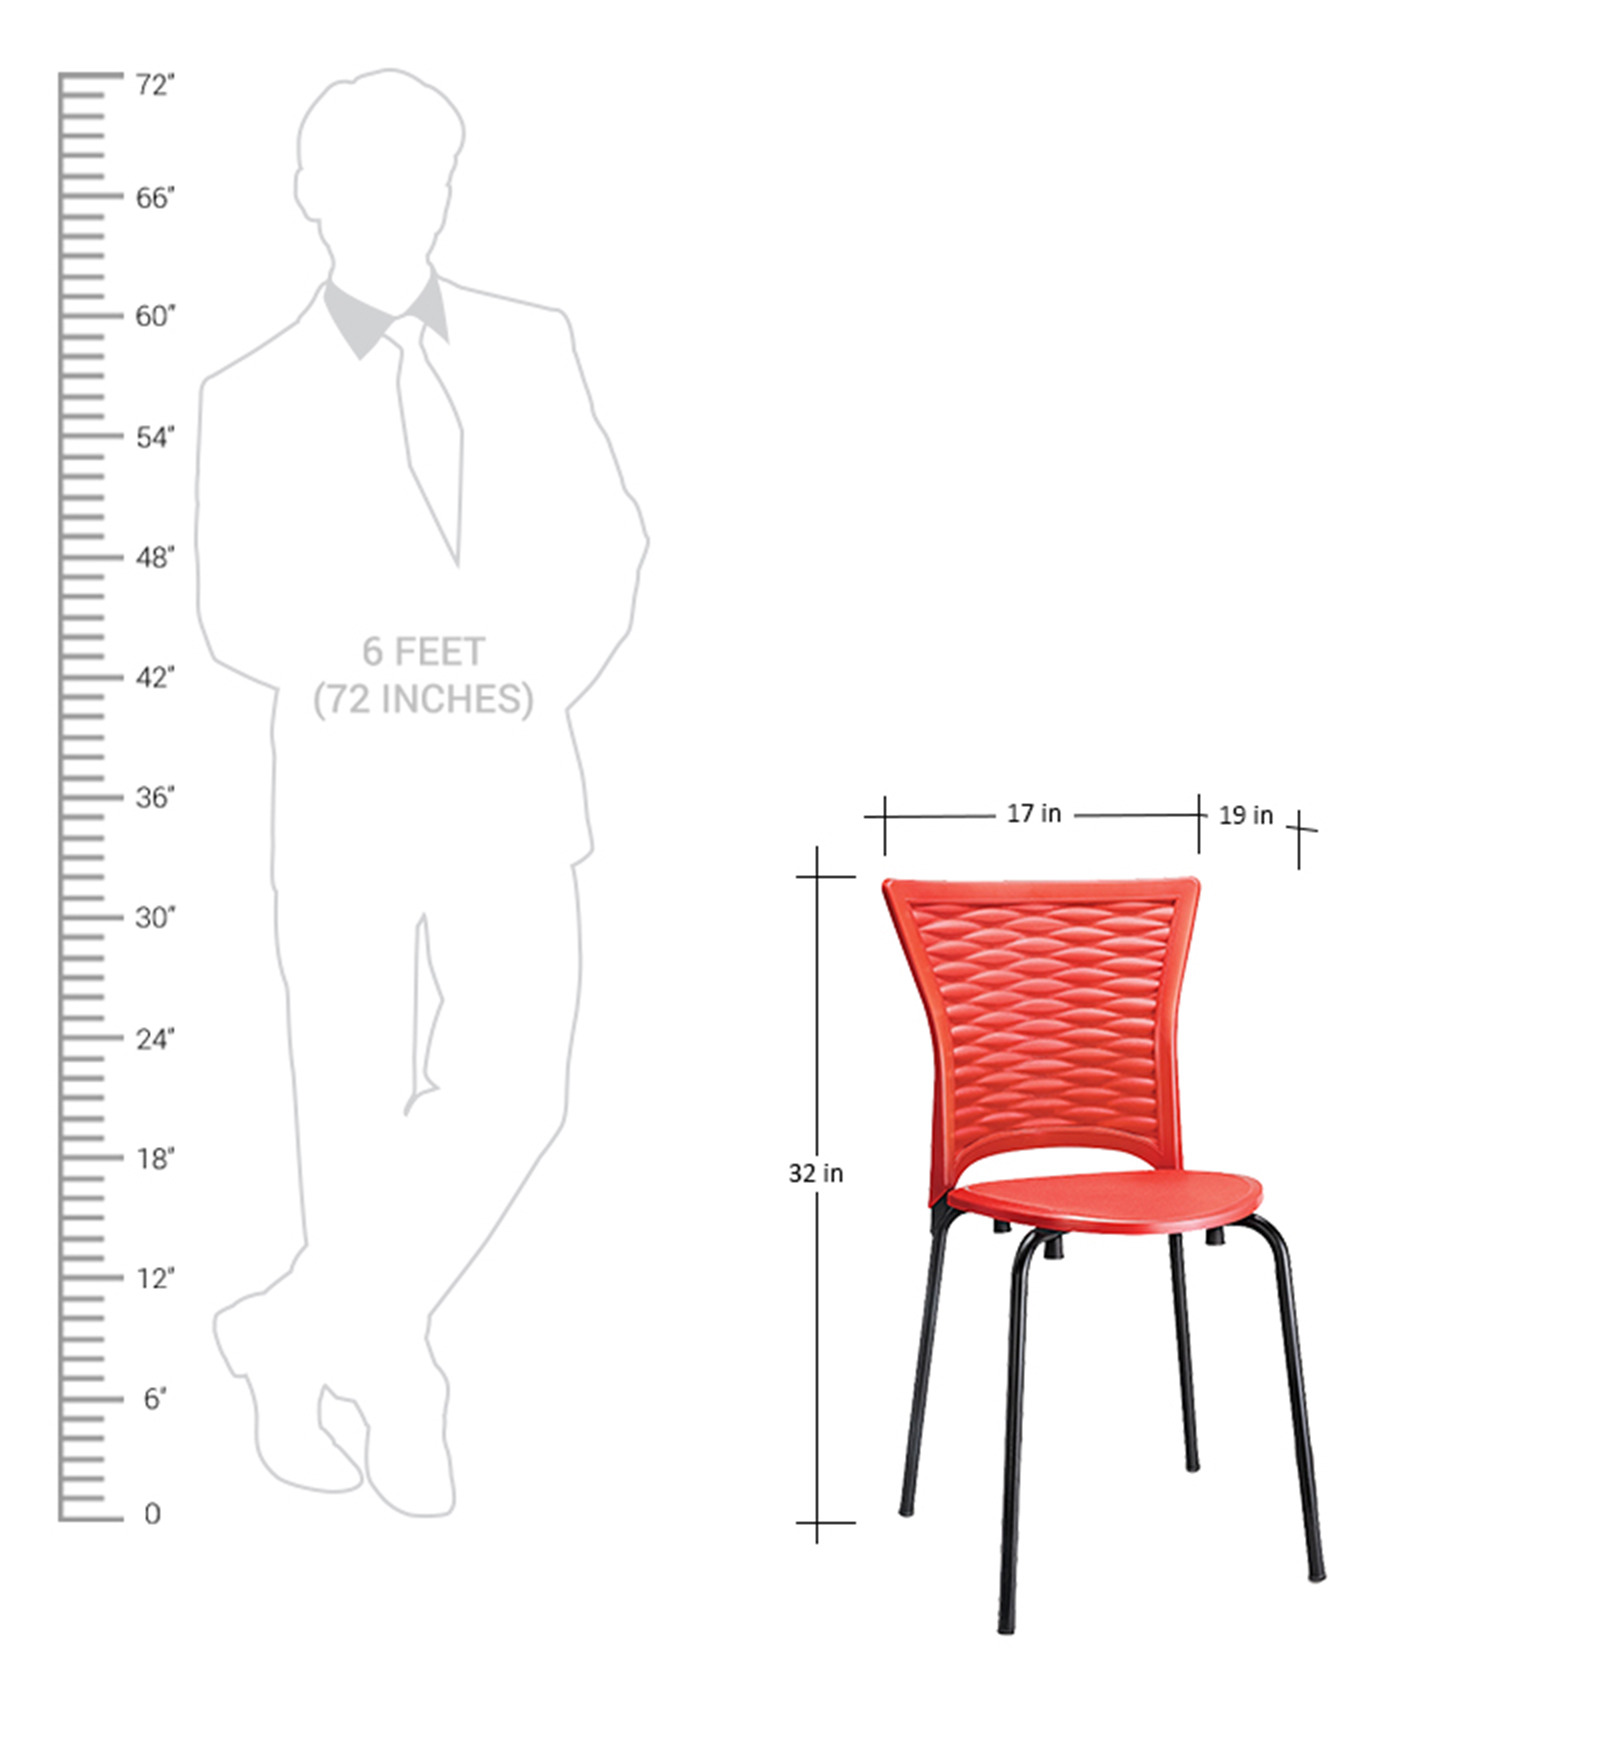Novella Chair in Red Colour by Nilkamal: (875, 871, 1343, 1643)
